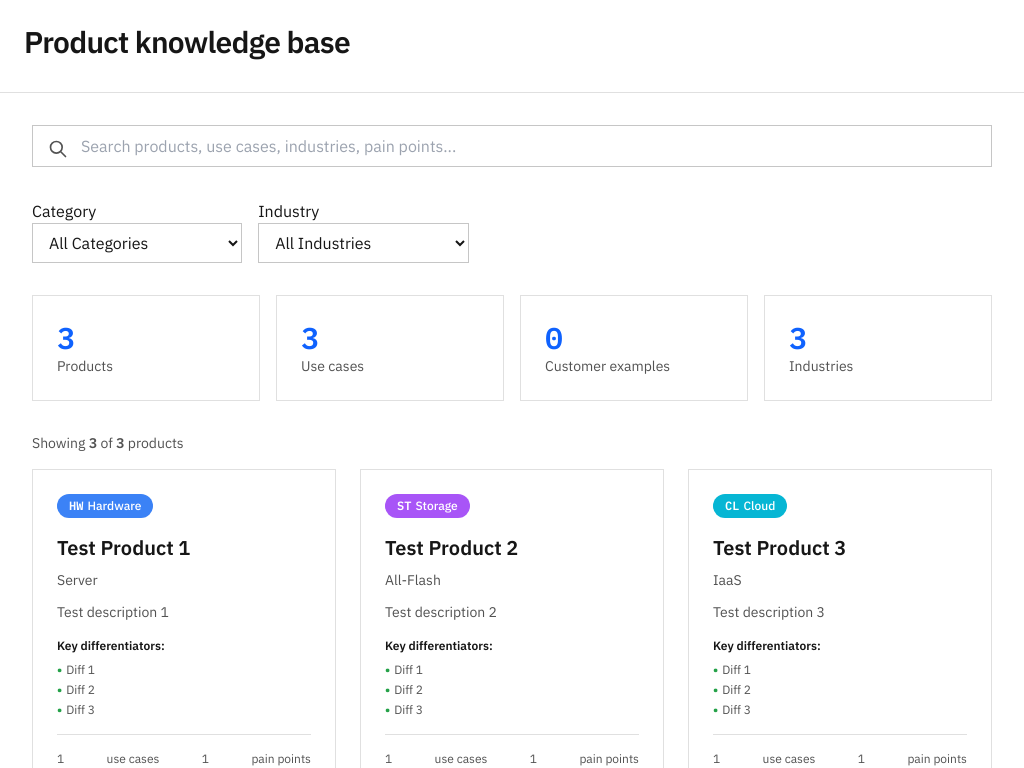
Scenario: ProductLibraryPage › Search Functionality › should show empty state when no results
Type "nonexistent" into the field with placeholder "Search products, use cases, industries, pain points...".
click(512, 146); type("nonexistent")  # box [32,125,992,167]
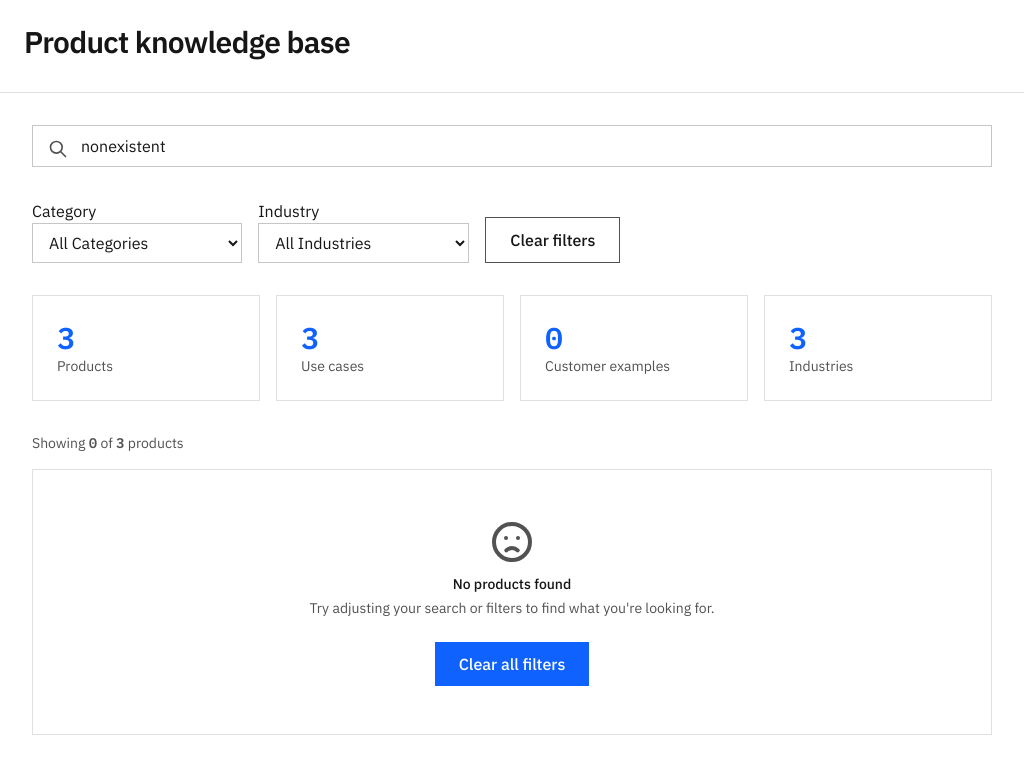
Expected: the heading "No products found" is shown, [453,575,571,593]
